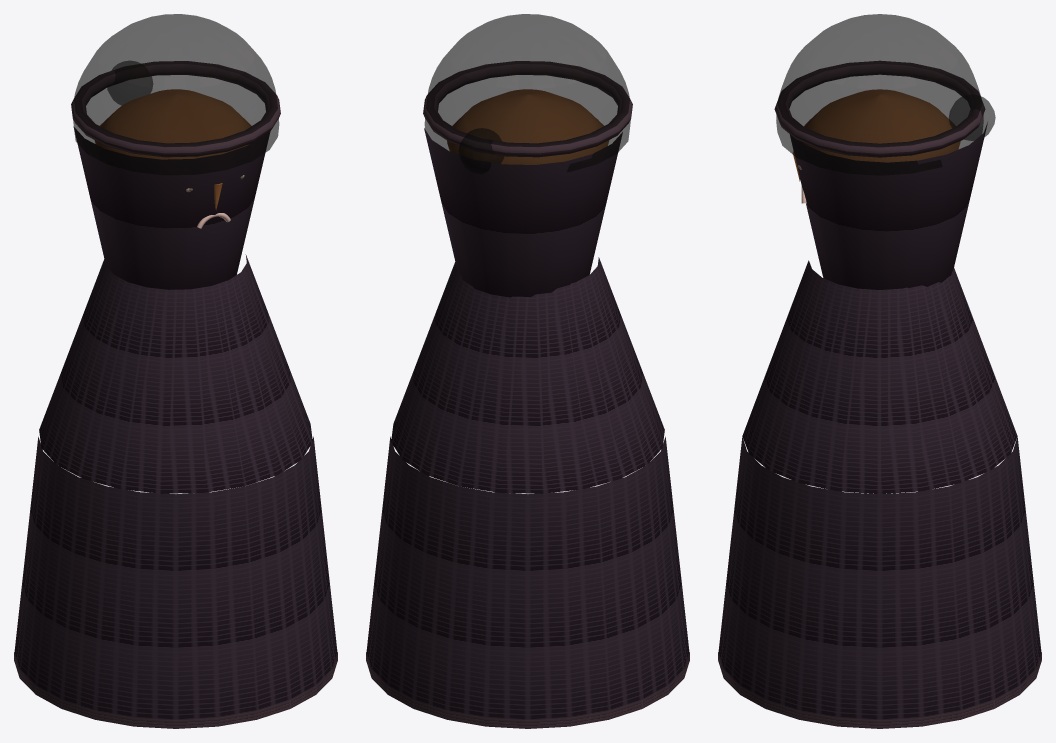
The model's file is martha.glb.
The picture shows the model from 3 angles, left to right: view 1: azimuth 30°, elevation 25°; view 2: azimuth 150°, elevation 25°; view 3: azimuth 270°, elevation 25°; orthographic projection.
Parts seen in each view (by area): view 1: Character_martha_of_bethany, head; view 2: Character_martha_of_bethany, head; view 3: Character_martha_of_bethany, head.
Part boxes in pixels (x1=…): Character_martha_of_bethany: x1=14, y1=14, x2=337, y2=728; head: x1=95, y1=89, x2=250, y2=159; Character_martha_of_bethany: x1=366, y1=14, x2=689, y2=728; head: x1=447, y1=89, x2=608, y2=164; Character_martha_of_bethany: x1=718, y1=14, x2=1041, y2=728; head: x1=803, y1=89, x2=960, y2=162.
Bounding box in the file's own units: 0.8293 × 1.8 × 0.8293.
11 materials, 7 textured.
